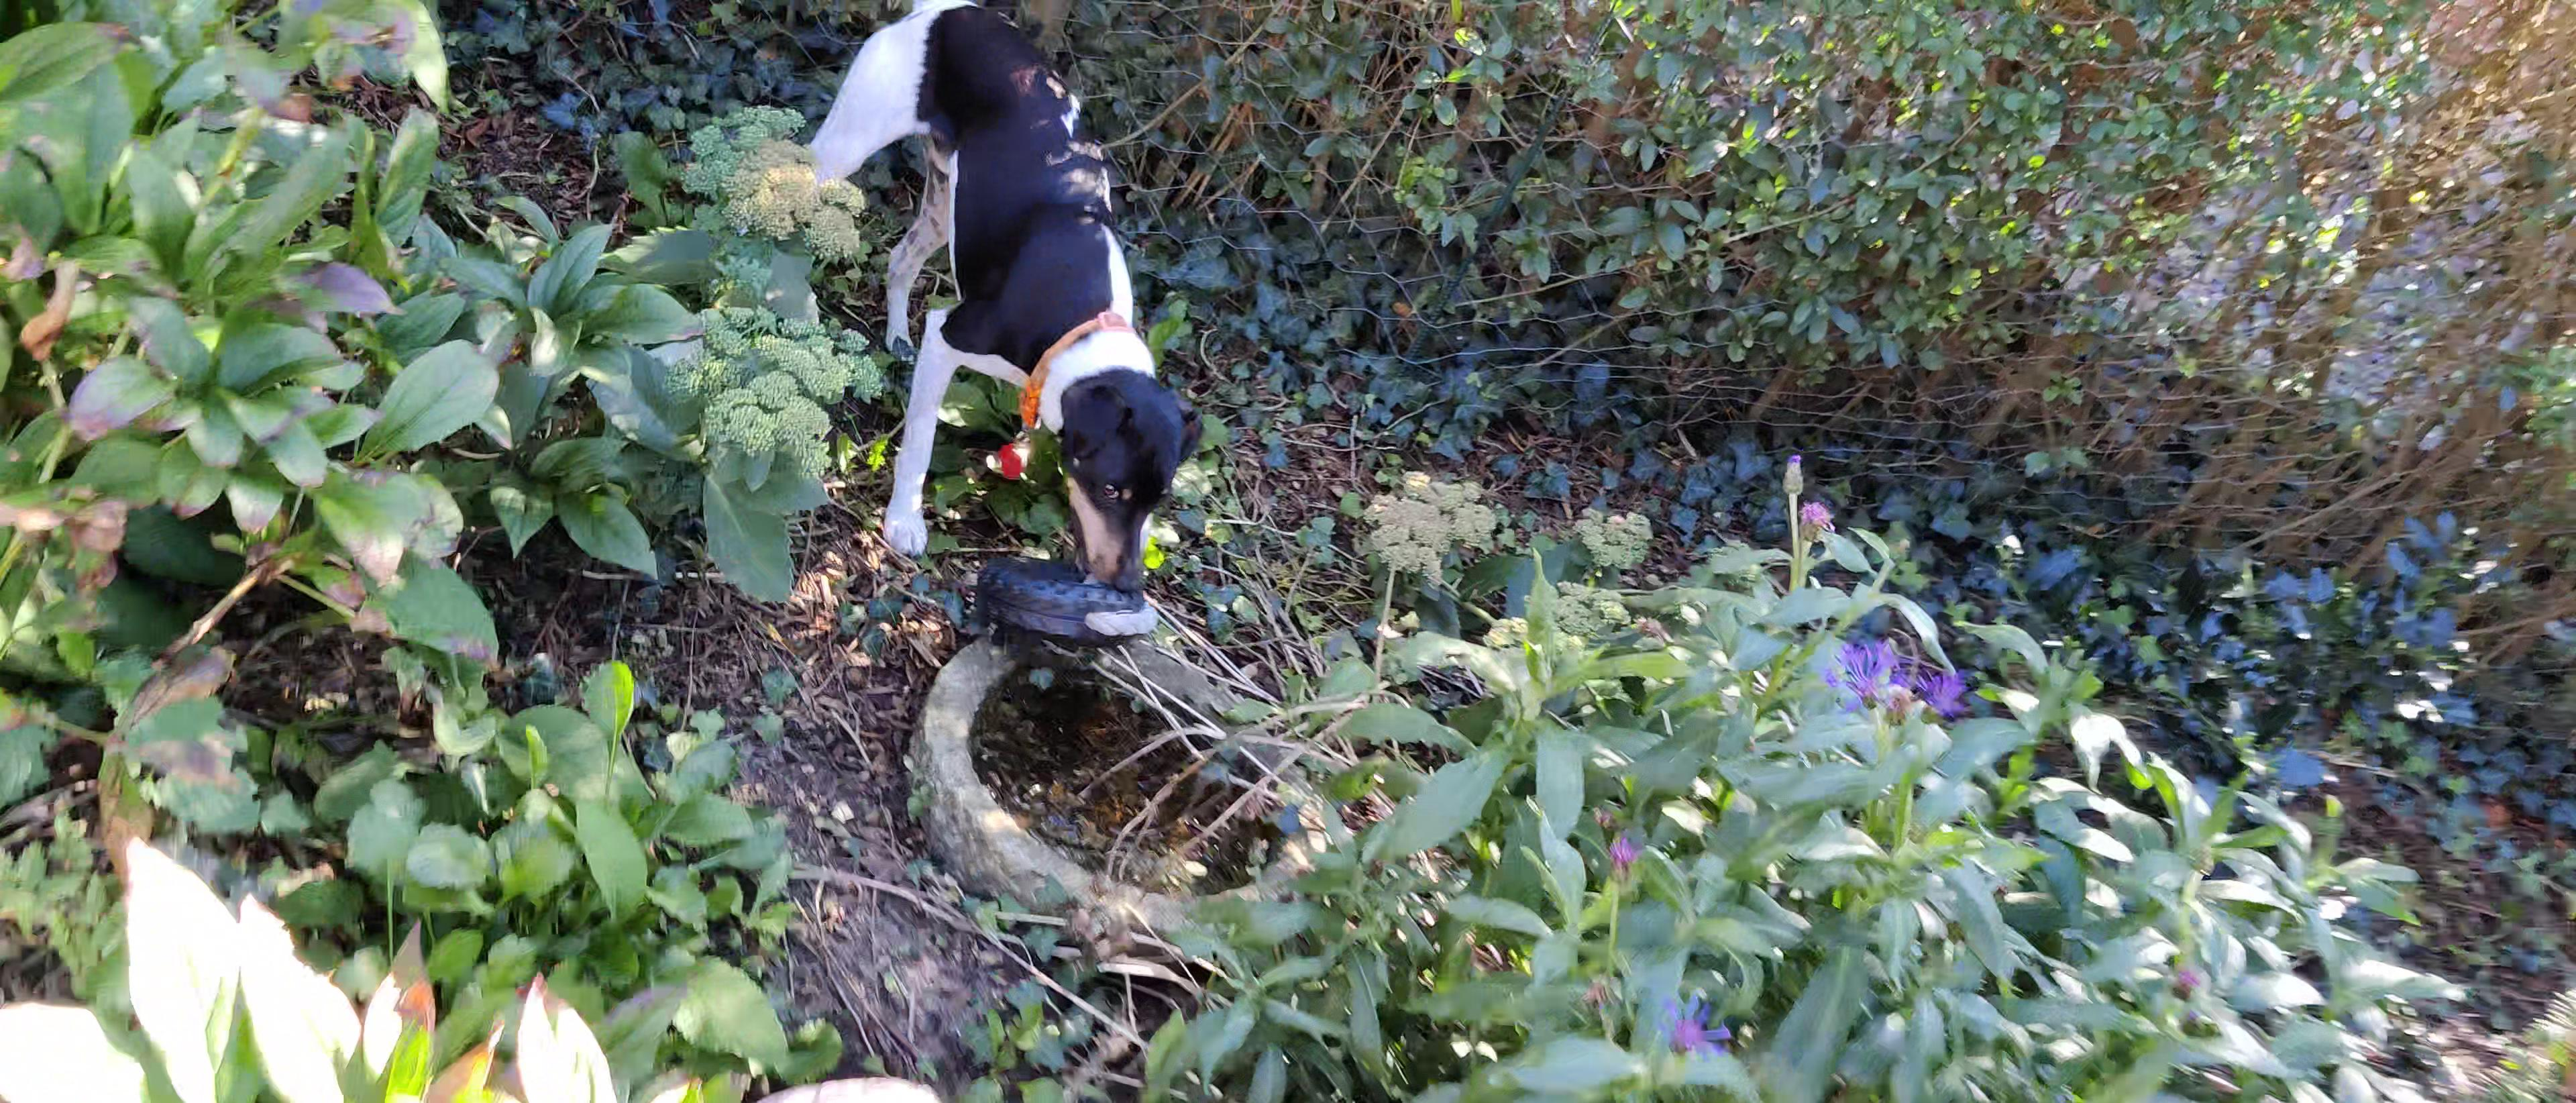Dog: (808, 0, 1207, 593)
